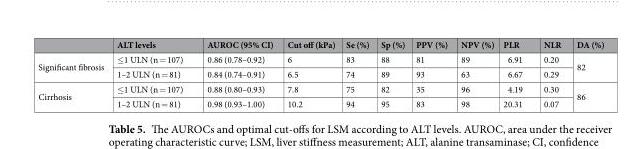table: (37, 37, 603, 109)
table column: (109, 37, 194, 109), (194, 37, 279, 109), (37, 37, 109, 109), (279, 37, 339, 109), (453, 37, 498, 109), (409, 37, 453, 109), (532, 37, 568, 109), (339, 37, 374, 109), (374, 37, 409, 109), (568, 37, 603, 109), (498, 37, 532, 109)
table column header: (37, 37, 603, 51)
table row: (37, 51, 603, 66), (37, 66, 603, 81), (37, 81, 603, 96), (37, 37, 603, 51), (37, 96, 603, 109)
table spanning cell: (37, 51, 109, 81), (37, 81, 109, 109), (568, 51, 603, 81), (568, 81, 603, 109)
